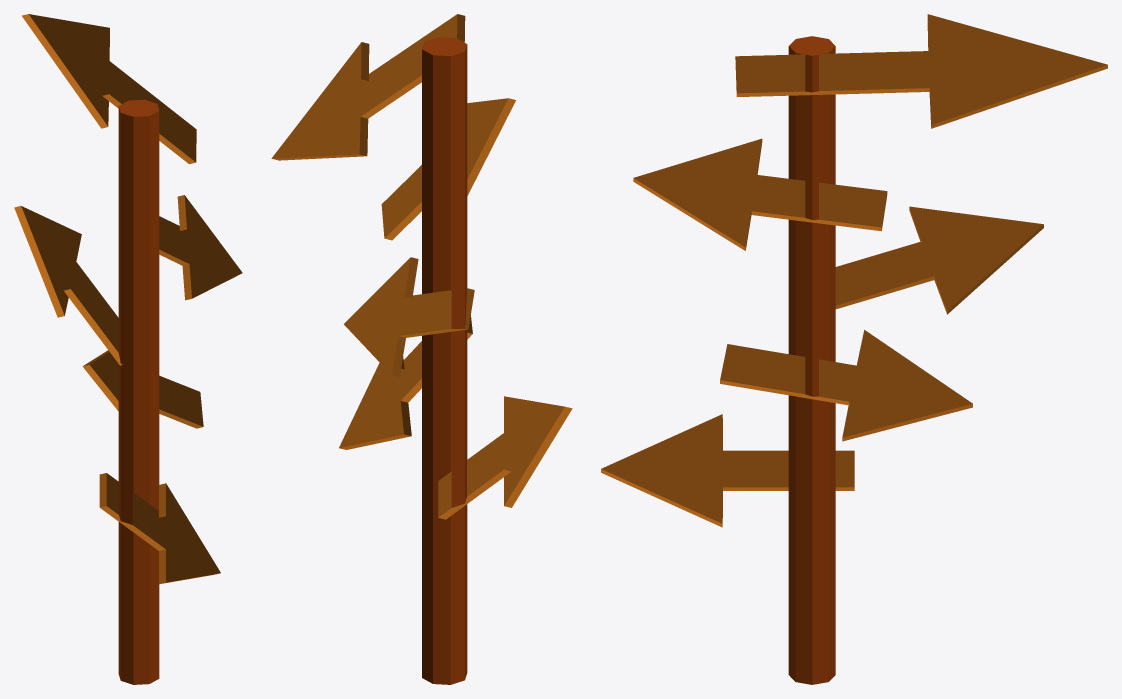
File: sign.glb
3 views of the same model, side by side, from view 1: azimuth 30°, elevation 25°; view 2: azimuth 150°, elevation 25°; view 3: azimuth 270°, elevation 25° (orthographic). The views are drawn at different scales.
Visible parts, largest first — view 1: Cylinder; view 2: Cylinder; view 3: Cylinder.
Boxes of the visible parts, box(x1,y1,x2,y2) form: Cylinder: box(14, 14, 242, 684); Cylinder: box(271, 14, 572, 684); Cylinder: box(601, 14, 1107, 684).
Bounding box in the file's own units: 0.5684 × 7.58 × 5.2.
